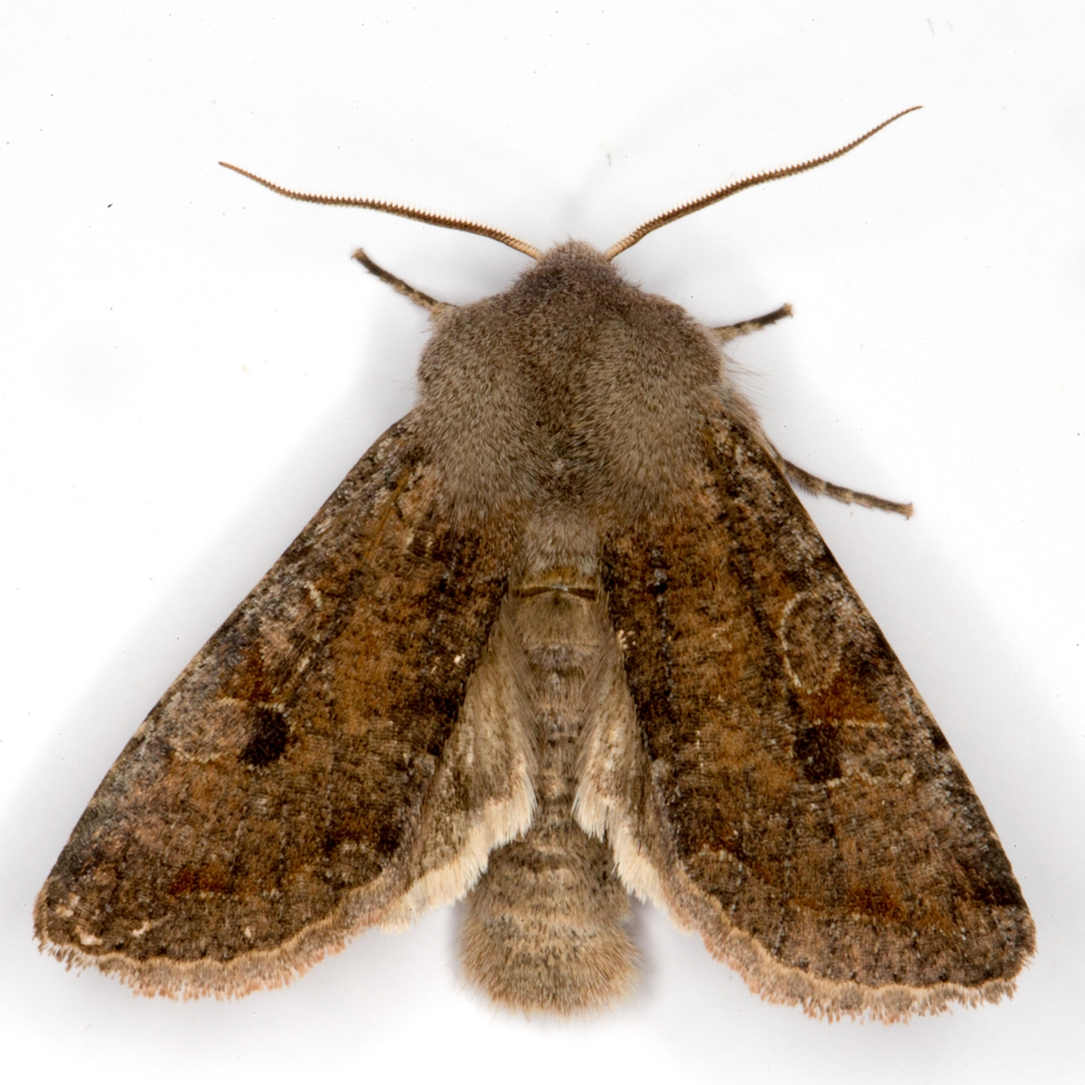Noctuidae: (24, 106, 1043, 1018)
